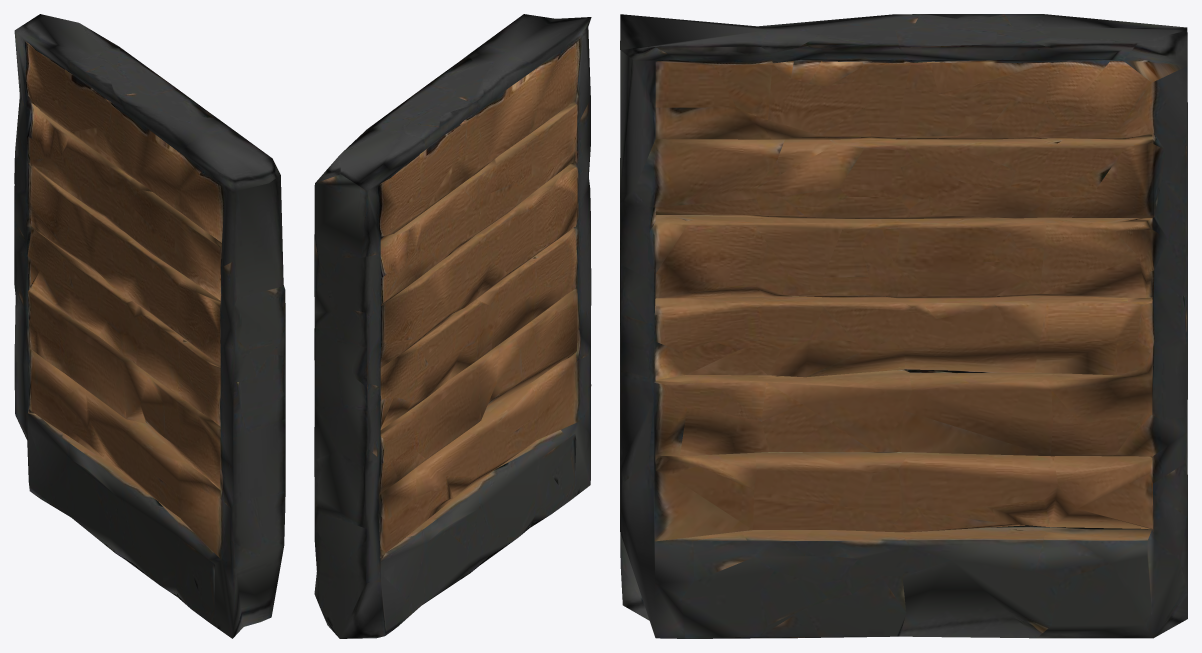
The model's file is pnl_slat_lod1.glb.
The picture shows the model from 3 angles, left to right: view 1: azimuth 30°, elevation 25°; view 2: azimuth 150°, elevation 25°; view 3: azimuth 270°, elevation 25°; orthographic projection. The views are drawn at different scales.
Parts seen in each view (by area): view 1: tripo_node_95089fe0-1304-4773-88dd-1d3d346eb88b; view 2: tripo_node_95089fe0-1304-4773-88dd-1d3d346eb88b; view 3: tripo_node_95089fe0-1304-4773-88dd-1d3d346eb88b.
Part boxes in pixels (<box>): tripo_node_95089fe0-1304-4773-88dd-1d3d346eb88b: <box>14,14,285,638</box>; tripo_node_95089fe0-1304-4773-88dd-1d3d346eb88b: <box>314,14,591,638</box>; tripo_node_95089fe0-1304-4773-88dd-1d3d346eb88b: <box>620,14,1187,638</box>.
Bounding box in the file's own units: 0.2285 × 1.8 × 1.55.
1 material, 1 textured.
